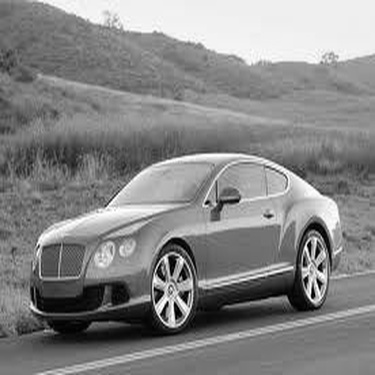car: (28, 142, 350, 338)
